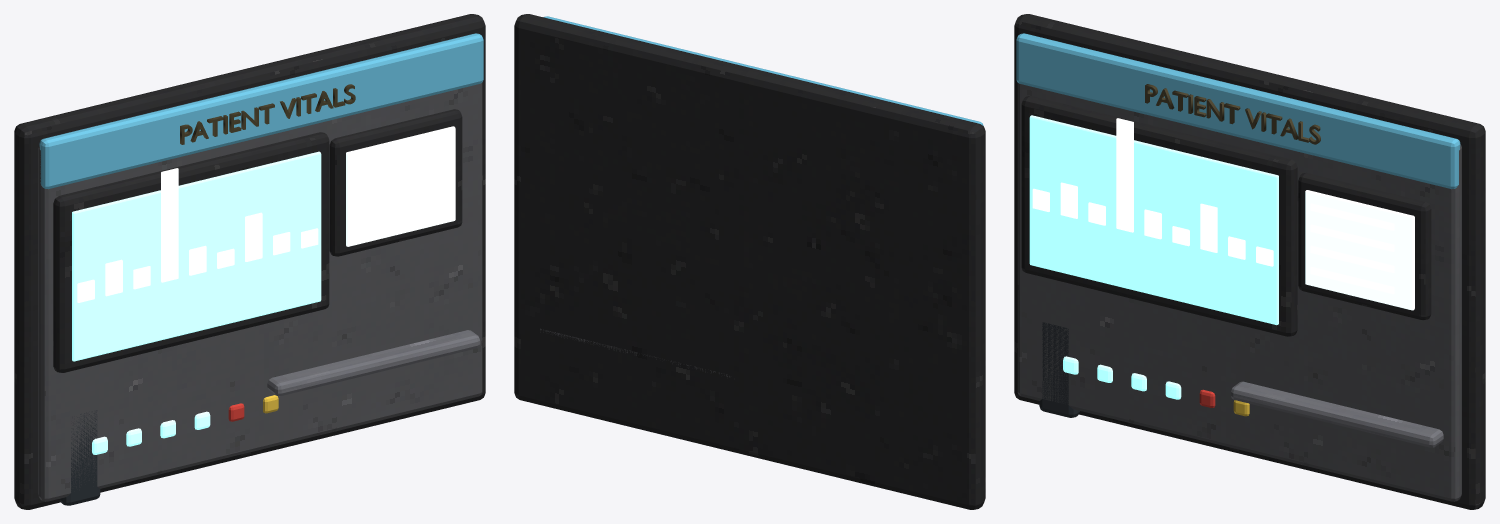
File: decor_med_vitals_panel.glb
3 renders of one model, left to right at view 1: azimuth 30°, elevation 25°; view 2: azimuth 150°, elevation 25°; view 3: azimuth 330°, elevation 25°, orthographic.
Visible parts, largest first — view 1: DEC_MedVitalsPanel__Panel_Face, DEC_MedVitalsPanel__Primary_Display_Glow, DEC_MedVitalsPanel__Panel_Back, DEC_MedVitalsPanel__Panel_Header, DEC_MedVitalsPanel__Primary_Display_Bezel, DEC_MedVitalsPanel__Secondary_Display_Glow, DEC_MedVitalsPanel__Secondary_Display_Bezel, DEC_MedVitalsPanel__Vial_Shelf, DEC_MedVitalsPanel__Panel_Title, DEC_MedVitalsPanel__Cable_Channel, DEC_MedVitalsPanel__Primary_Display_Trace_4, DEC_MedVitalsPanel__Primary_Display_Trace_7 (+5 smaller); view 2: DEC_MedVitalsPanel__Panel_Back, DEC_MedVitalsPanel__Panel_Header; view 3: DEC_MedVitalsPanel__Panel_Face, DEC_MedVitalsPanel__Primary_Display_Glow, DEC_MedVitalsPanel__Panel_Back, DEC_MedVitalsPanel__Panel_Header, DEC_MedVitalsPanel__Primary_Display_Bezel, DEC_MedVitalsPanel__Secondary_Display_Glow, DEC_MedVitalsPanel__Secondary_Display_Bezel, DEC_MedVitalsPanel__Vial_Shelf, DEC_MedVitalsPanel__Cable_Channel, DEC_MedVitalsPanel__Panel_Title, DEC_MedVitalsPanel__Primary_Display_Trace_4, DEC_MedVitalsPanel__Primary_Display_Trace_7 (+5 smaller).
Part boxes in pixels (<box>): DEC_MedVitalsPanel__Panel_Face: <box>38,83,482,501</box>; DEC_MedVitalsPanel__Primary_Display_Glow: <box>72,151,321,361</box>; DEC_MedVitalsPanel__Panel_Back: <box>14,14,485,509</box>; DEC_MedVitalsPanel__Panel_Header: <box>39,33,483,188</box>; DEC_MedVitalsPanel__Primary_Display_Bezel: <box>53,132,329,372</box>; DEC_MedVitalsPanel__Secondary_Display_Glow: <box>346,126,455,246</box>; DEC_MedVitalsPanel__Secondary_Display_Bezel: <box>329,109,462,256</box>; DEC_MedVitalsPanel__Vial_Shelf: <box>267,330,480,396</box>; DEC_MedVitalsPanel__Panel_Title: <box>180,84,355,144</box>; DEC_MedVitalsPanel__Cable_Channel: <box>60,410,100,505</box>; DEC_MedVitalsPanel__Primary_Display_Trace_4: <box>161,168,178,282</box>; DEC_MedVitalsPanel__Primary_Display_Trace_7: <box>245,212,262,261</box>; DEC_MedVitalsPanel__Panel_Back: <box>514,14,985,509</box>; DEC_MedVitalsPanel__Panel_Header: <box>543,16,983,125</box>; DEC_MedVitalsPanel__Panel_Face: <box>1017,83,1461,501</box>; DEC_MedVitalsPanel__Primary_Display_Glow: <box>1029,115,1278,325</box>; DEC_MedVitalsPanel__Panel_Back: <box>1014,14,1485,509</box>; DEC_MedVitalsPanel__Panel_Header: <box>1016,33,1460,188</box>; DEC_MedVitalsPanel__Primary_Display_Bezel: <box>1021,95,1297,336</box>; DEC_MedVitalsPanel__Secondary_Display_Glow: <box>1305,190,1414,310</box>; DEC_MedVitalsPanel__Secondary_Display_Bezel: <box>1298,172,1431,320</box>; DEC_MedVitalsPanel__Vial_Shelf: <box>1231,381,1443,447</box>; DEC_MedVitalsPanel__Cable_Channel: <box>1039,322,1079,417</box>; DEC_MedVitalsPanel__Panel_Title: <box>1145,84,1320,144</box>; DEC_MedVitalsPanel__Primary_Display_Trace_4: <box>1116,118,1133,232</box>; DEC_MedVitalsPanel__Primary_Display_Trace_7: <box>1200,203,1217,252</box>.
Size of the model in its own units: 1.5 by 1.18 by 0.17.
Materials: 13 (4 with a texture image).
